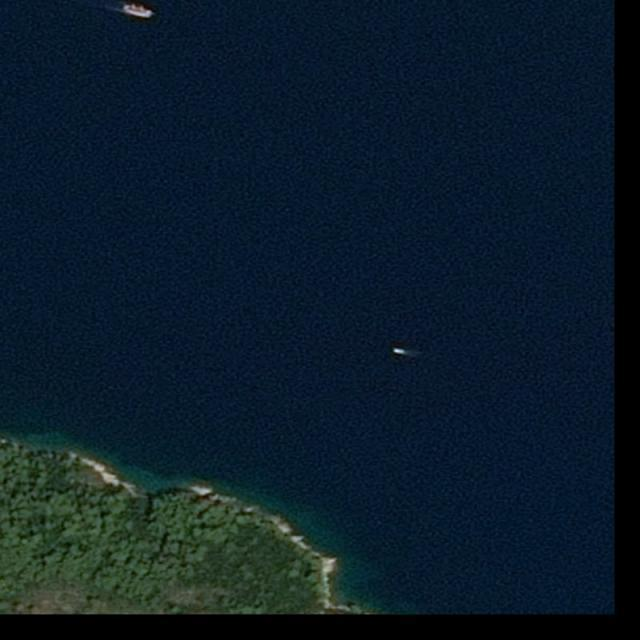ship: (125, 6, 154, 18), (393, 348, 403, 354)
